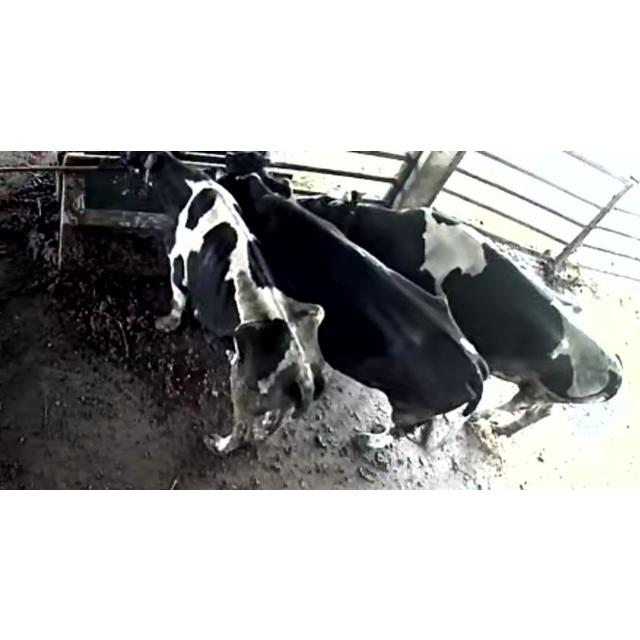drink: (120, 150, 220, 236), (222, 152, 312, 238)
